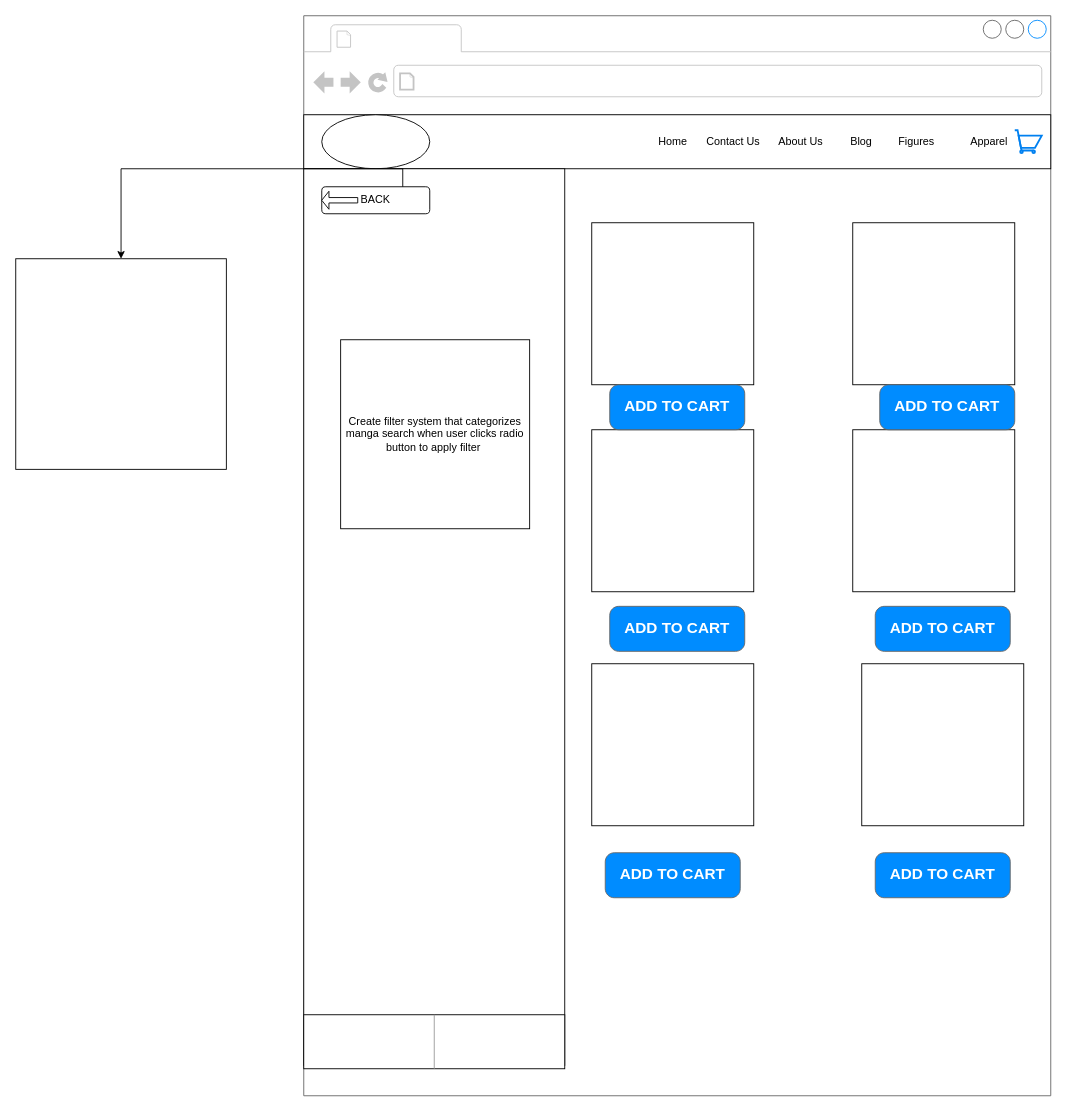
Image size: 1067x1112. Some labels were removed from this diagram. Each missing label, with the box of its shape:
Anime Oasis: (321, 114, 430, 169)
APPLY CANCEL: (303, 1014, 565, 1069)
Have this option to send user back to home page.: (15, 258, 226, 469)
https://www.draw.io: (420, 69, 646, 93)
Page 1: (357, 26, 457, 50)
